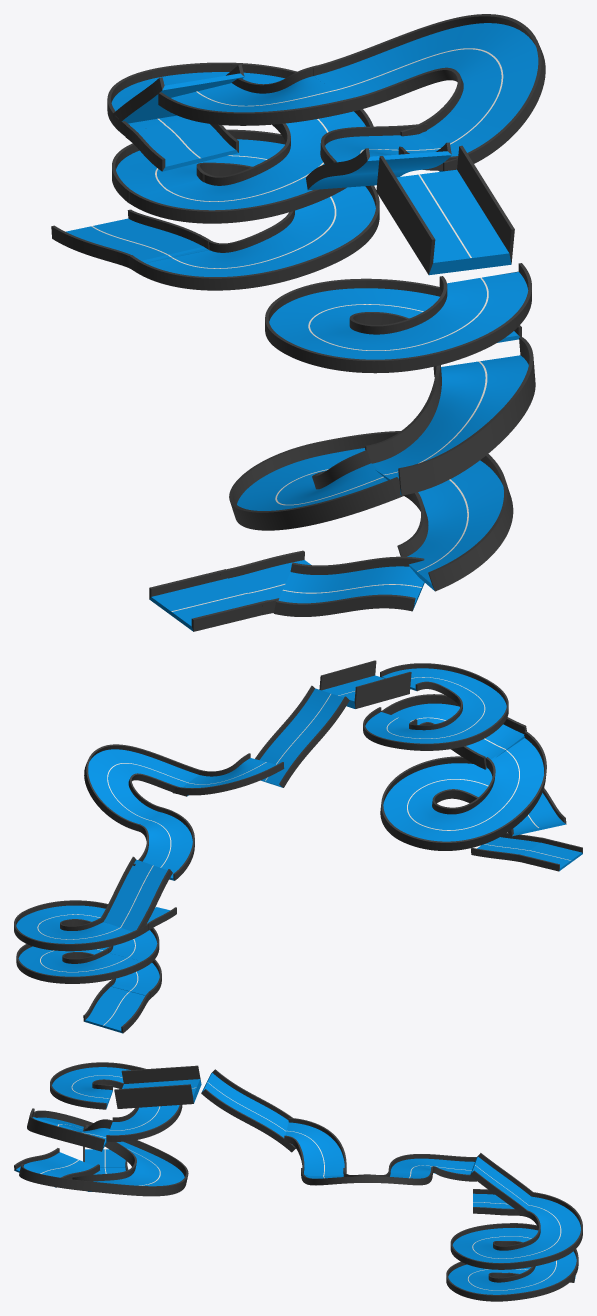
Rendered from StylizedTrack_Capu.fbx.
3 views of the same model, one above another, from view 1: azimuth 30°, elevation 25°; view 2: azimuth 150°, elevation 25°; view 3: azimuth 270°, elevation 25° (orthographic). The views are drawn at different scales.
Parts seen in each view (by area): view 1: ModularTrackSpiralLeft__3_.001, ModularTrackSpiralLeft__2_.001, ModularTrackBank__1_, ModularTrackSpiralLeft__6_.001, ModularTrackSpiralLeft__5_.001, ModularTrackRampCurveLeft__2_.002, ModularTrackStraight__18_, ModularTrackRampCurveLeft, ModularTrackRamp__17_, ModularTrackCantMediumLeft__2_, endroad.001, ModularTrackCantSmallRight (+4 smaller); view 2: ModularTrackSpiralLeft__3_.001, ModularTrackSpiralLeft__2_.001, ModularTrackSpiralLeft__5_.001, ModularTrackBank__1_, ModularTrackSpiralLeft__6_.001, ModularTrackRamp__15_, ModularTrackRampCurveLeft__2_.002, ModularTrackCantSmallLeft__14_, ModularTrackRampCurveLeft, ModularTrackStraight__18_, ModularTrackRampCurveLeft__1_, ModularTrackCantMediumLeft__2_ (+3 smaller); view 3: ModularTrackSpiralLeft__5_.001, ModularTrackSpiralLeft__3_.001, ModularTrackSpiralLeft__2_.001, ModularTrackSpiralLeft__6_.001, ModularTrackStraight__18_, ModularTrackRamp__15_, ModularTrackRampCurveLeft__1_, ModularTrackRampCurveLeft, ModularTrackCantSmallLeft__14_, ModularTrackRampCurveLeft__2_.002, ModularTrackRamp__17_, ModularTrackBank__1_ (+2 smaller).
Part boxes in pixels (<box>): ModularTrackSpiralLeft__3_.001: <box>229,431,513,591</box>; ModularTrackSpiralLeft__2_.001: <box>265,263,531,373</box>; ModularTrackBank__1_: <box>312,14,545,171</box>; ModularTrackSpiralLeft__6_.001: <box>112,129,379,290</box>; ModularTrackSpiralLeft__5_.001: <box>107,62,373,223</box>; ModularTrackRampCurveLeft__2_.002: <box>365,337,535,495</box>; ModularTrackStraight__18_: <box>376,145,514,275</box>; ModularTrackRampCurveLeft: <box>158,65,361,125</box>; ModularTrackRamp__17_: <box>273,556,424,616</box>; ModularTrackCantMediumLeft__2_: <box>51,209,211,268</box>; endroad.001: <box>149,569,269,631</box>; ModularTrackCantSmallRight: <box>125,119,238,171</box>; ModularTrackSpiralLeft__3_.001: <box>380,731,546,850</box>; ModularTrackSpiralLeft__2_.001: <box>363,663,508,750</box>; ModularTrackSpiralLeft__5_.001: <box>14,900,159,964</box>; ModularTrackBank__1_: <box>84,744,200,830</box>; ModularTrackSpiralLeft__6_.001: <box>16,944,161,998</box>; ModularTrackRamp__15_: <box>255,685,349,787</box>; ModularTrackRampCurveLeft__2_.002: <box>381,694,526,769</box>; ModularTrackCantSmallLeft__14_: <box>101,856,172,933</box>; ModularTrackRampCurveLeft: <box>133,807,194,880</box>; ModularTrackStraight__18_: <box>319,660,411,708</box>; ModularTrackRampCurveLeft__1_: <box>172,753,284,795</box>; ModularTrackCantMediumLeft__2_: <box>83,979,150,1033</box>; ModularTrackSpiralLeft__5_.001: <box>450,1192,582,1269</box>; ModularTrackSpiralLeft__3_.001: <box>19,1110,188,1196</box>; ModularTrackSpiralLeft__2_.001: <box>50,1062,182,1141</box>; ModularTrackSpiralLeft__6_.001: <box>446,1223,578,1301</box>; ModularTrackStraight__18_: <box>114,1065,201,1108</box>; ModularTrackRamp__15_: <box>201,1069,295,1152</box>; ModularTrackRampCurveLeft__1_: <box>284,1118,346,1176</box>; ModularTrackRampCurveLeft: <box>388,1154,476,1181</box>; ModularTrackCantSmallLeft__14_: <box>470,1153,533,1215</box>; ModularTrackRampCurveLeft__2_.002: <box>27,1108,112,1151</box>; ModularTrackRamp__17_: <box>14,1148,99,1187</box>; ModularTrackBank__1_: <box>301,1167,432,1185</box>.
Size of the model in its own units: 80.99 by 46.66 by 129.
